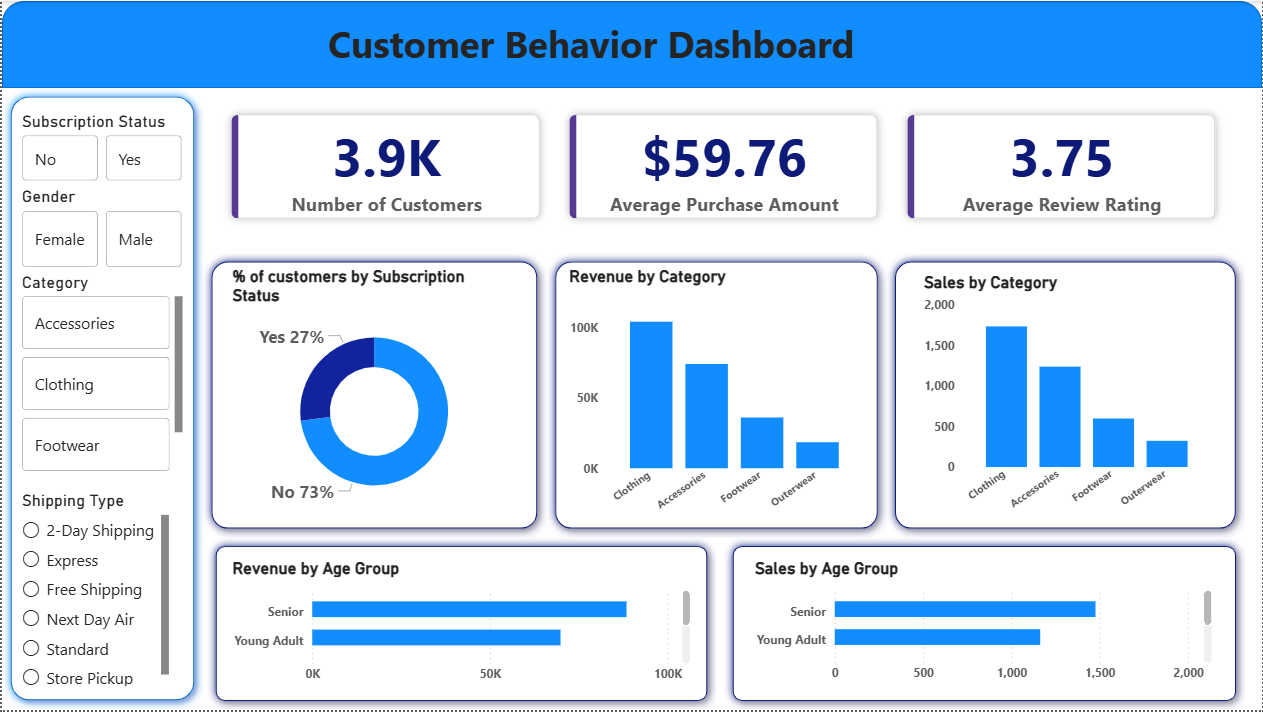

This screenshot's page, from the dashboard's own definition file:
{"tool":"powerbi","page":{"name":"Page 1","canvas":[1280,720],"ordinal":0},"visuals":[{"type":"cardVisual","fields":{"Data":["customer_behavior customer.Number of Customers","customer_behavior customer.Average Purchase Amount","customer_behavior customer.Average Review Rating"]},"box":[204.7,88.6,1057.3,161.2],"z":0},{"type":"shape","box":[0,0,1279.7,88.5],"z":1000},{"type":"shape","box":[204.2,255.3,348.9,289.3],"z":2000},{"type":"donutChart","title":"% of customers by Subscription Status","fields":{"Category":["customer_behavior customer.Subscription Status"],"Y":["CountNonNull(customer_behavior customer.Customer ID)"]},"box":[229.7,268.9,297.8,255.3],"z":3000},{"type":"shape","box":[553.1,255.3,345.5,289.3],"z":4000},{"type":"shape","box":[898.5,255.3,364.2,289.3],"z":5000},{"type":"clusteredColumnChart","title":"Revenue by Category","fields":{"Y":["Sum(customer_behavior customer.Purchase Amount (USD))"],"Category":["customer_behavior customer.Category"]},"box":[571.8,268.9,308,257],"z":6000},{"type":"clusteredColumnChart","title":"Sales by Category","fields":{"Category":["customer_behavior customer.Category"],"Y":["CountNonNull(customer_behavior customer.Customer ID)"]},"box":[930.9,275.7,301.2,250.2],"z":7000},{"type":"shape","box":[0,88.5,204.2,631.3],"z":8000},{"type":"advancedSlicerVisual","fields":{"Values":["customer_behavior customer.Subscription Status"]},"box":[15.3,112.3,173.6,76.6],"z":9000},{"type":"advancedSlicerVisual","fields":{"Values":["customer_behavior customer.Gender"]},"box":[15.3,188.9,173.6,86.8],"z":10000},{"type":"advancedSlicerVisual","fields":{"Values":["customer_behavior customer.Category"]},"box":[15.3,275.7,173.6,209.3],"z":11000},{"type":"listSlicer","fields":{"Values":["customer_behavior customer.Shipping Type"]},"box":[15.3,496.9,160,204.2],"z":12000},{"type":"shape","box":[207.6,544.6,517.3,175.3],"z":13000},{"type":"shape","box":[733.4,544.6,529.2,175.3],"z":14000},{"type":"clusteredBarChart","title":"Revenue by Age Group","fields":{"Y":["Sum(customer_behavior customer.Purchase Amount (USD))"],"Category":["customer_behavior customer.Age Group"]},"box":[229.7,565,474.8,136.1],"z":15000},{"type":"textbox","box":[299.5,11.9,599,64.7],"z":16000},{"type":"clusteredBarChart","title":"Sales by Age Group","fields":{"Category":["customer_behavior customer.Age Group"],"Y":["CountNonNull(customer_behavior customer.Customer ID)"]},"box":[759.1,565.7,473.9,135.4],"z":17000}]}

Visuals, with their boxes in screenshot pixels (x1, y1, x2, y2), scaled from the page's 1280x720 canvas onto the 1263x712 screenshot:
cardVisual - customer_behavior customer.Number of Customers x customer_behavior customer.Average Purchase Amount: pyautogui.locateOnScreen(202, 88, 1245, 247)
shape: pyautogui.locateOnScreen(0, 0, 1262, 88)
shape: pyautogui.locateOnScreen(201, 252, 546, 539)
"% of customers by Subscription Status" donutChart: pyautogui.locateOnScreen(227, 266, 520, 518)
shape: pyautogui.locateOnScreen(546, 252, 887, 539)
shape: pyautogui.locateOnScreen(887, 252, 1246, 539)
"Revenue by Category" clusteredColumnChart: pyautogui.locateOnScreen(564, 266, 868, 520)
"Sales by Category" clusteredColumnChart: pyautogui.locateOnScreen(919, 273, 1216, 520)
shape: pyautogui.locateOnScreen(0, 88, 201, 711)
advancedSlicerVisual - customer_behavior customer.Subscription Status: pyautogui.locateOnScreen(15, 111, 186, 187)
advancedSlicerVisual - customer_behavior customer.Gender: pyautogui.locateOnScreen(15, 187, 186, 273)
advancedSlicerVisual - customer_behavior customer.Category: pyautogui.locateOnScreen(15, 273, 186, 480)
listSlicer - customer_behavior customer.Shipping Type: pyautogui.locateOnScreen(15, 491, 173, 693)
shape: pyautogui.locateOnScreen(205, 539, 715, 711)
shape: pyautogui.locateOnScreen(724, 539, 1246, 711)
"Revenue by Age Group" clusteredBarChart: pyautogui.locateOnScreen(227, 559, 695, 693)
textbox: pyautogui.locateOnScreen(296, 12, 887, 76)
"Sales by Age Group" clusteredBarChart: pyautogui.locateOnScreen(749, 559, 1217, 693)
